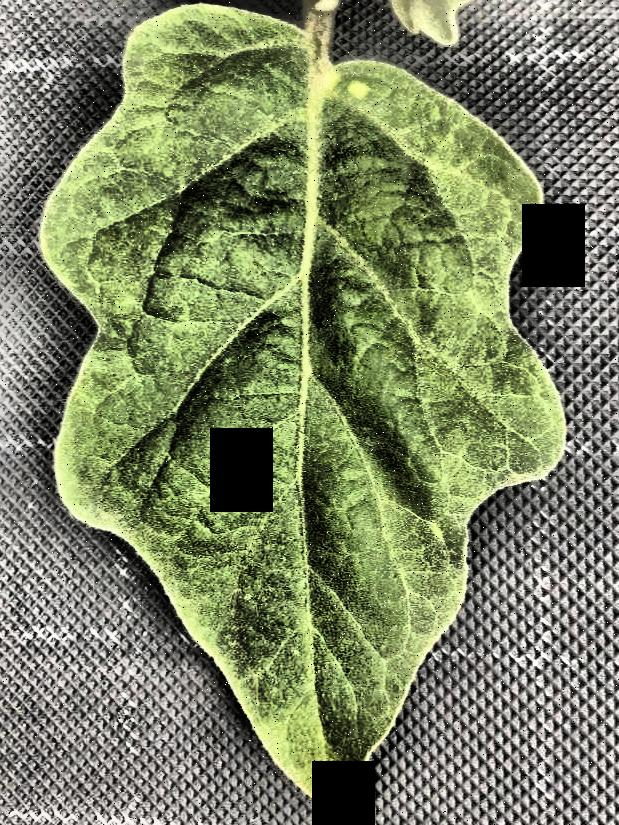HEALTHY: (1, 0, 619, 825)
